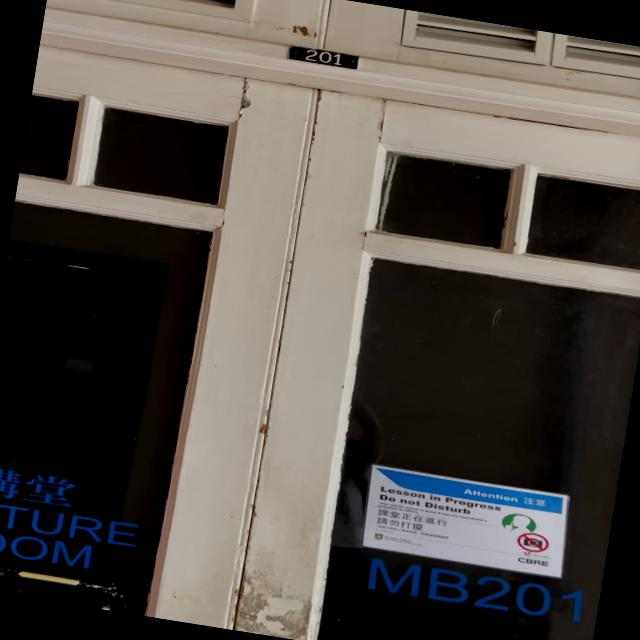room201: (280, 41, 366, 75)
room201Window: (355, 549, 601, 632)
